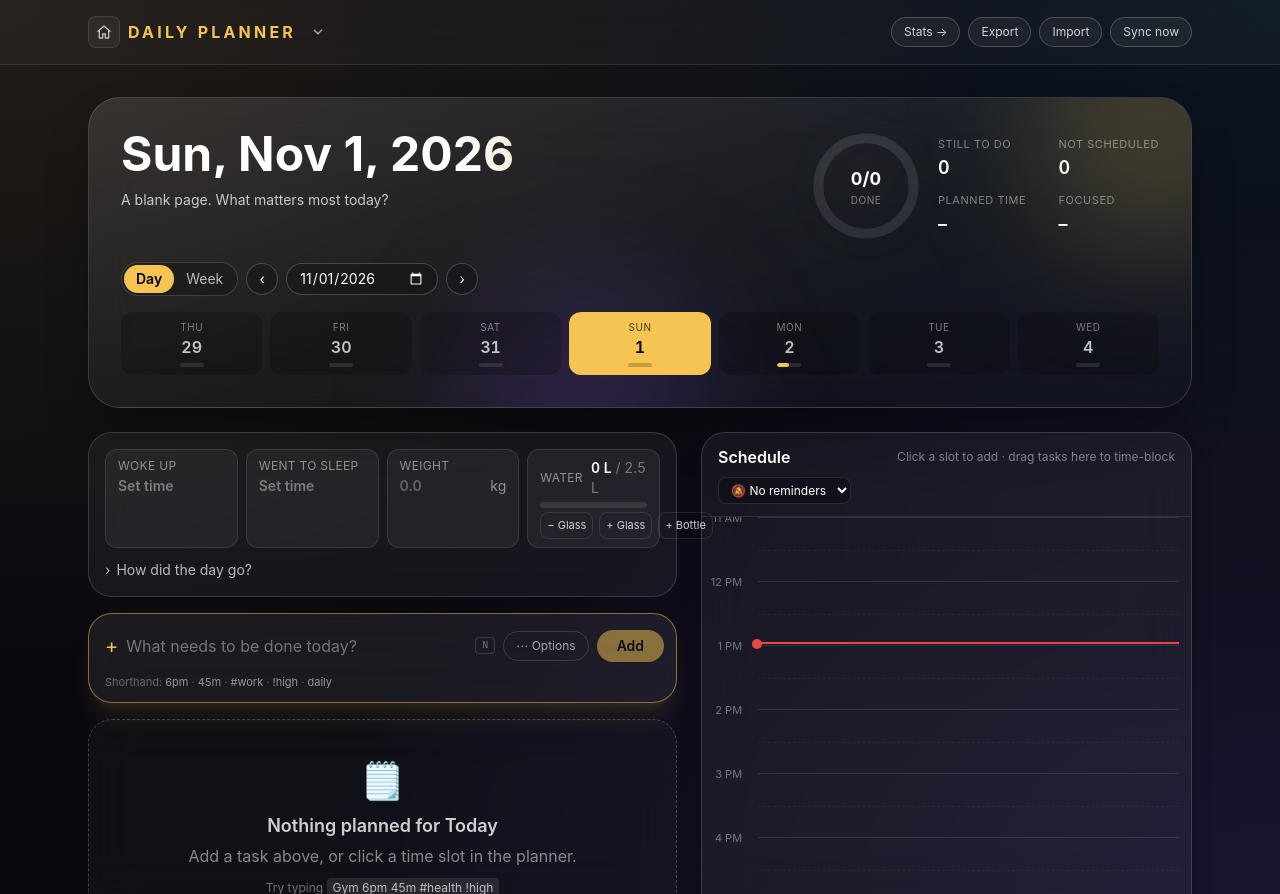
Test case: friendlier planner › opens a day from the strip around today, which shows how each day went
The image size is (1280, 894).
(page scrolled)
Click the button with aria-label ": 1 of 2 done".
click(789, 344)  # box x1=719 y1=312 x2=860 y2=375
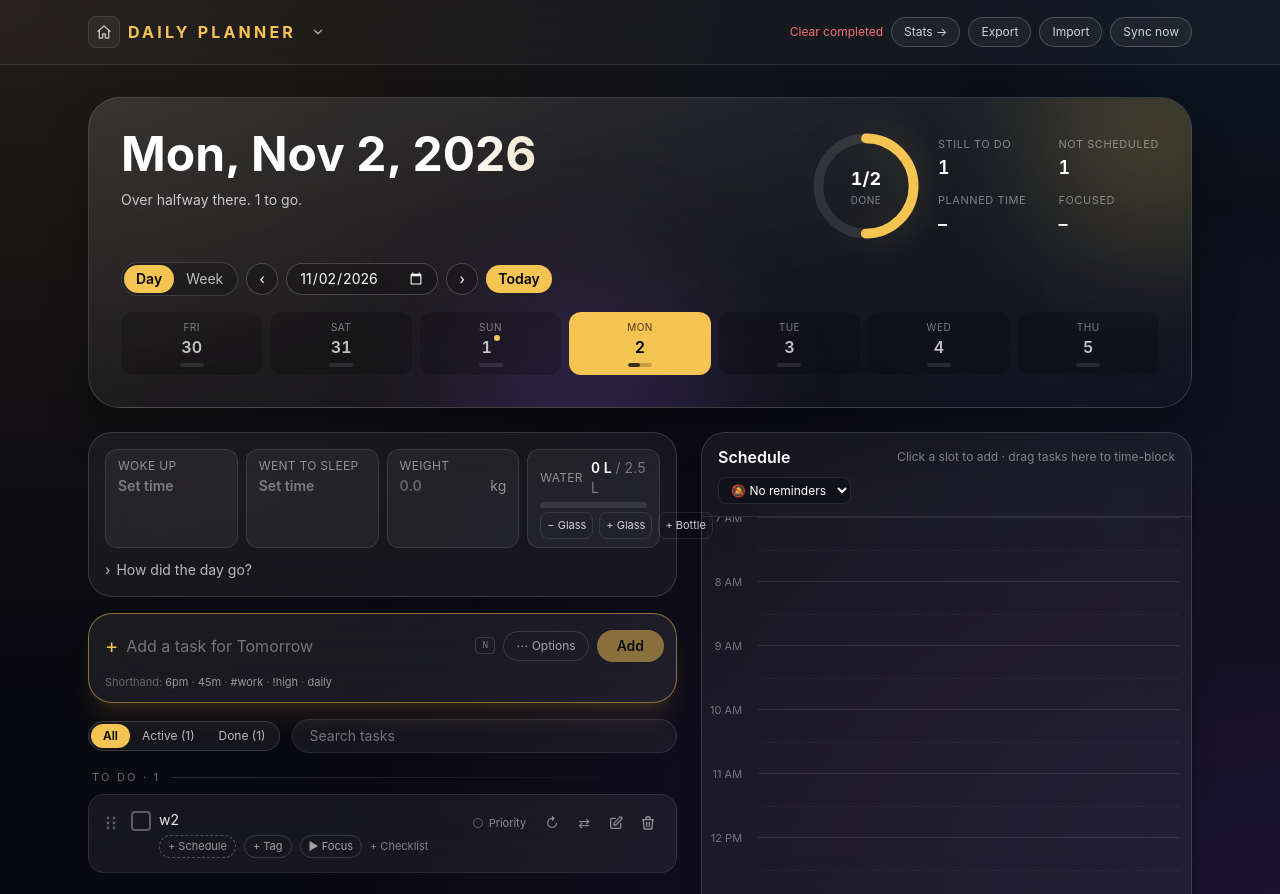
expect the text "w2" is shown: met, box x1=159 y1=810 x2=179 y2=828
